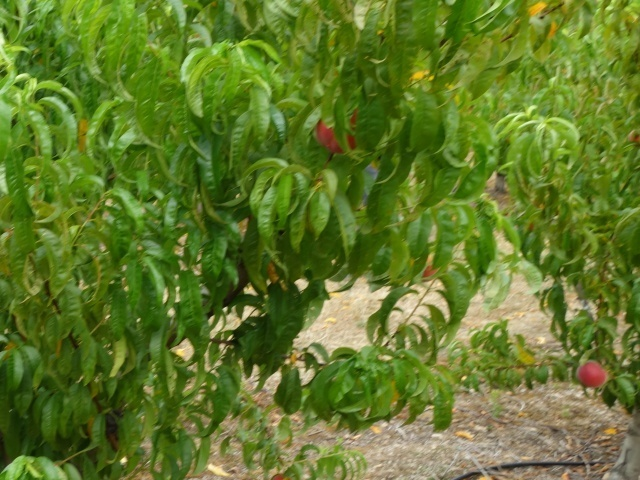peach: (312, 106, 363, 155), (574, 359, 609, 392)
